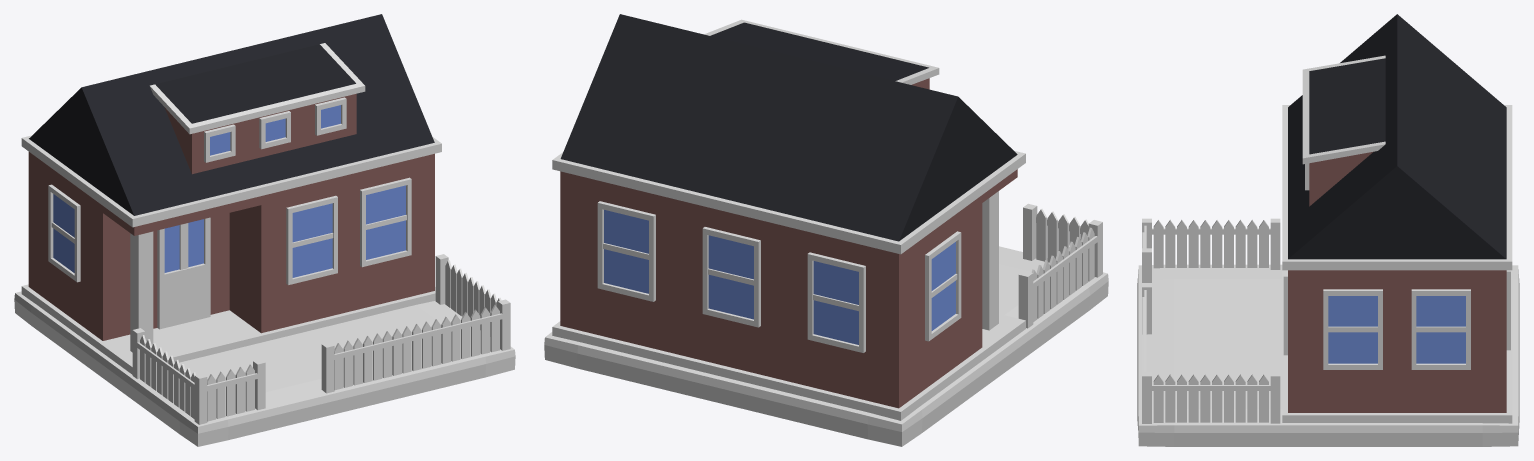
The model's file is house_01.fbx.
3 renders of one model, left to right at view 1: azimuth 30°, elevation 25°; view 2: azimuth 150°, elevation 25°; view 3: azimuth 270°, elevation 25°, orthographic. The views are drawn at different scales.
Parts seen in each view (by area): view 1: house 01, ground; view 2: house 01, ground; view 3: house 01, ground.
Boxes of the visible parts, x1=… form: house 01: x1=21, y1=14, x2=510, y2=424; ground: x1=14, y1=291, x2=515, y2=446; house 01: x1=552, y1=14, x2=1102, y2=420; ground: x1=544, y1=246, x2=1108, y2=446; house 01: x1=1142, y1=14, x2=1512, y2=423; ground: x1=1137, y1=264, x2=1519, y2=446.
Size of the model in its own units: 408 by 408 by 327.
